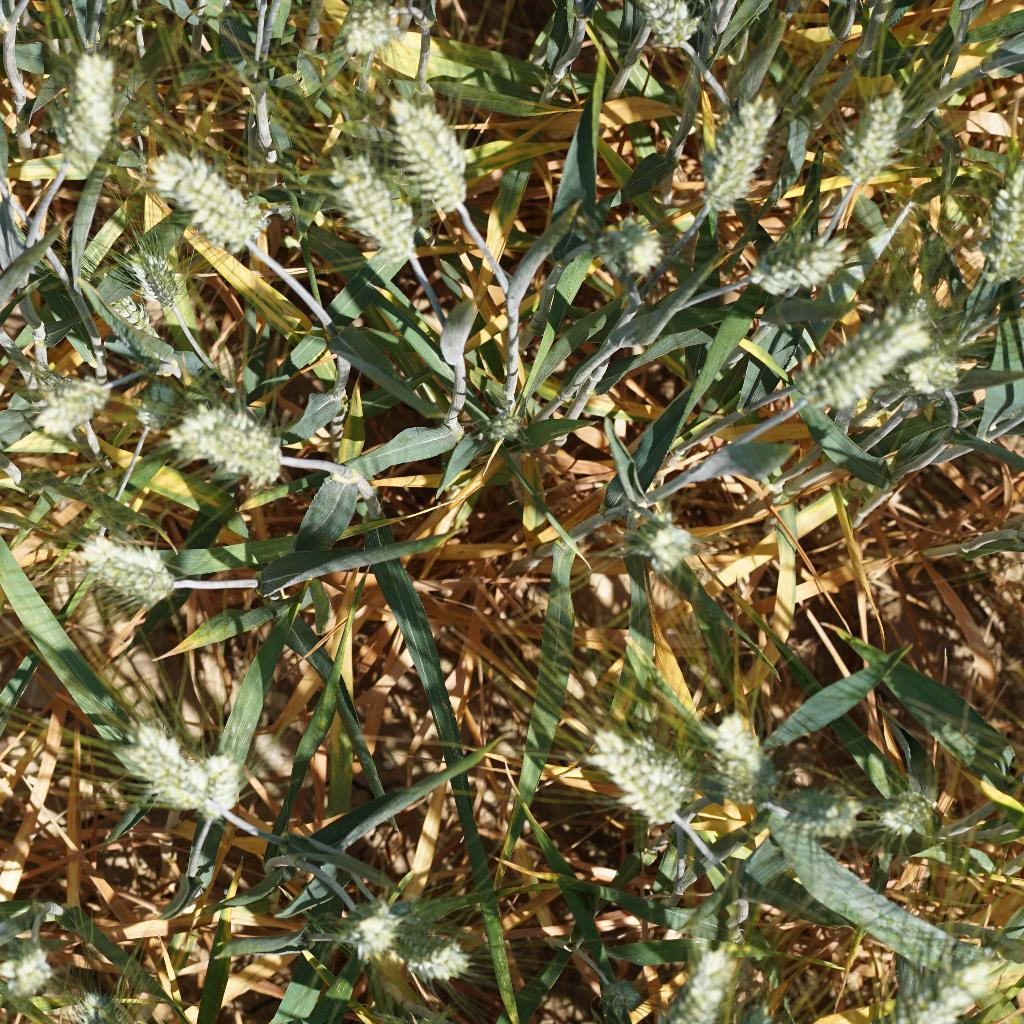0-0: (789, 310, 940, 411), (387, 85, 484, 230), (152, 142, 272, 256), (329, 152, 428, 272), (854, 944, 1002, 1024), (167, 392, 286, 489), (589, 725, 695, 833), (688, 89, 772, 220), (48, 32, 124, 160), (119, 713, 209, 814), (86, 529, 191, 613), (769, 768, 870, 854), (7, 363, 115, 443), (411, 888, 485, 997), (703, 712, 787, 804), (752, 225, 843, 303), (841, 81, 904, 193), (976, 153, 1023, 302), (186, 747, 254, 849), (668, 930, 740, 1024), (325, 886, 407, 967), (628, 505, 701, 582), (874, 781, 949, 855), (333, 0, 428, 55), (93, 286, 169, 352), (123, 232, 182, 317), (594, 202, 662, 273), (617, 0, 716, 48), (905, 344, 980, 407), (0, 931, 60, 998), (595, 974, 653, 1024), (75, 981, 142, 1024), (470, 405, 525, 449)
